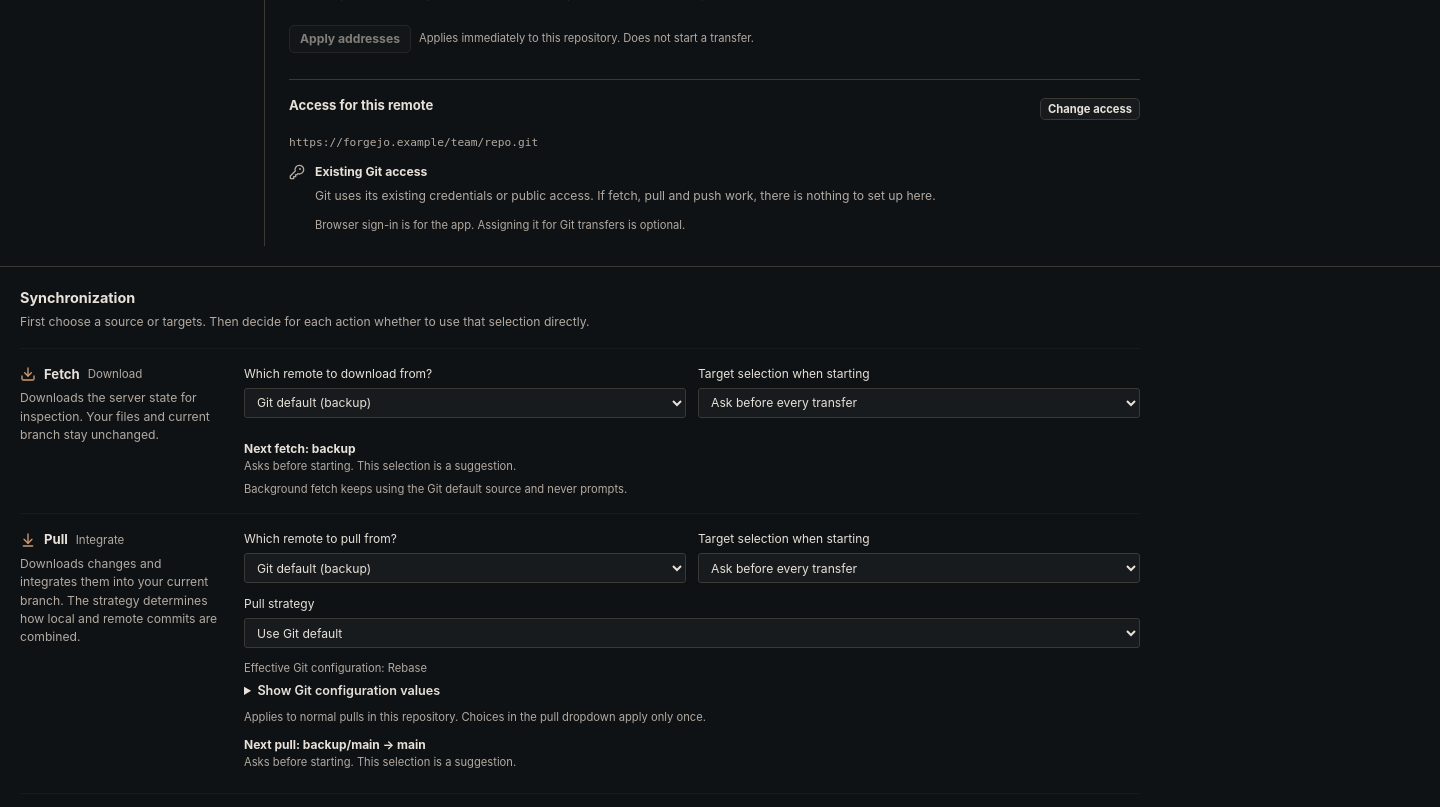
Test: does not overwrite saved preferences when they changed since the session draft was made
(page scrolled)
Step 1. Select "private · https://forgejo.example/team/repo.git" in the dropdown named "Fetch source" → point(465, 403), box [244,388,686,418]
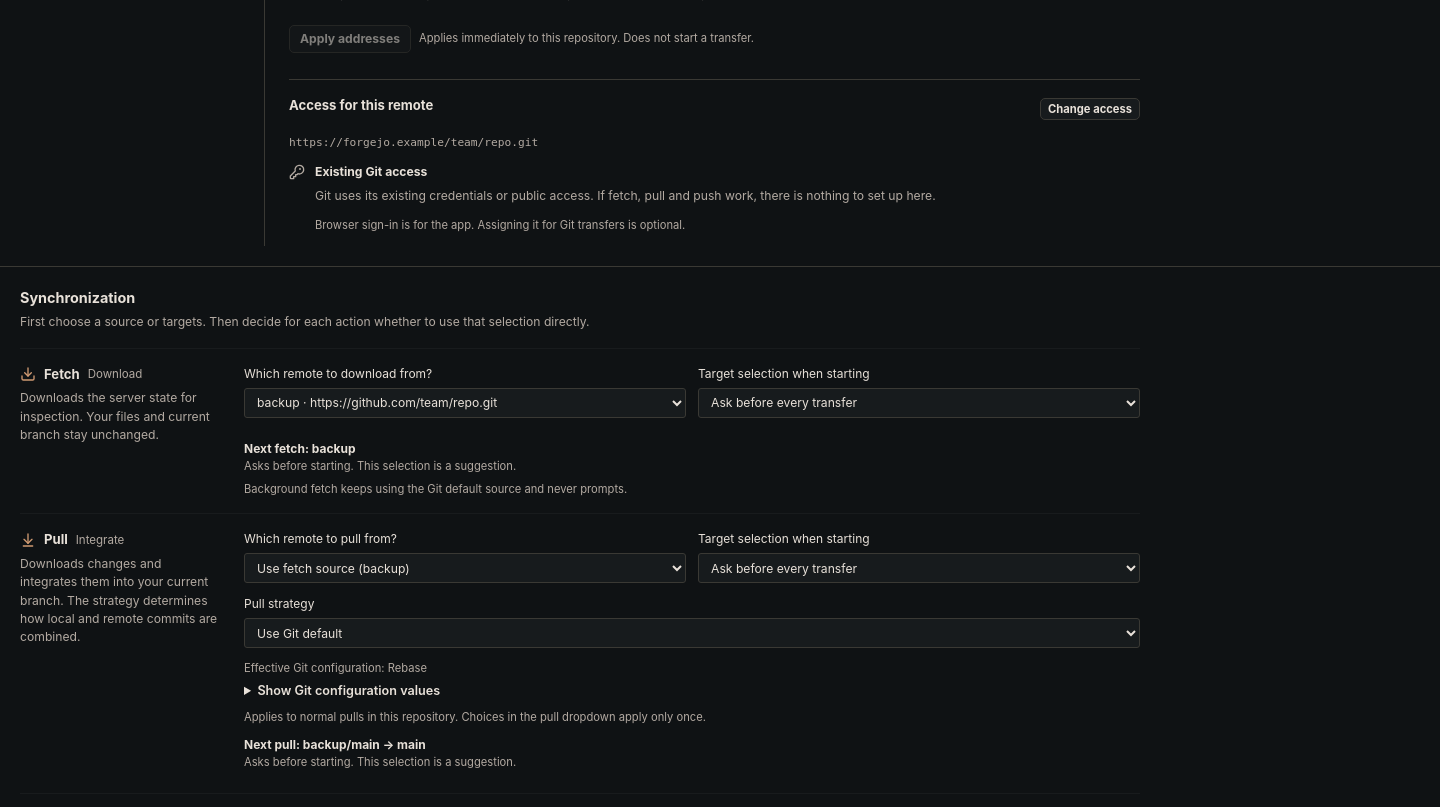
Now the dropdown named "Fetch source" shows "backup · https://github.com/team/repo.git", box [244,388,686,418]
